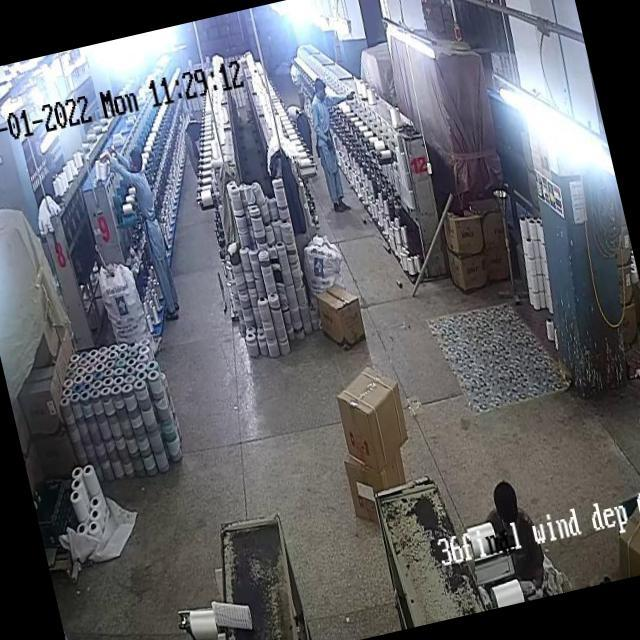person: (120, 150, 190, 322), (296, 58, 351, 204), (482, 474, 545, 561), (176, 122, 217, 174)
